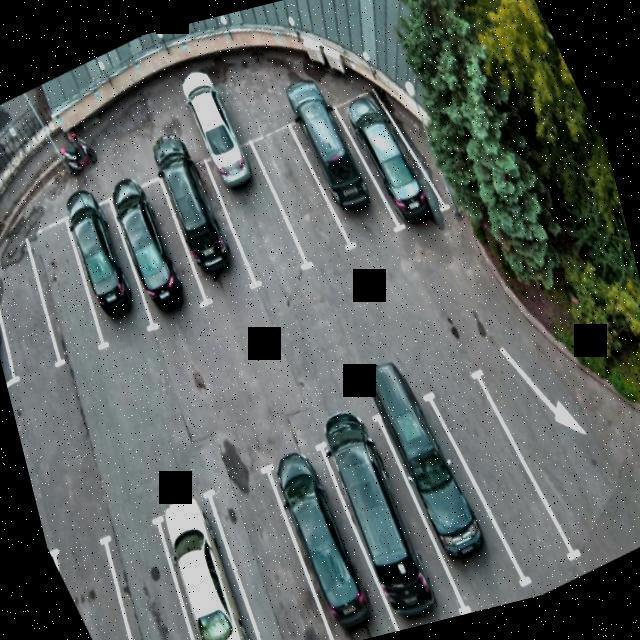space-empty: (422, 351, 582, 598), (181, 457, 338, 640), (63, 511, 241, 640), (0, 207, 128, 379), (245, 117, 351, 275), (0, 214, 86, 397), (52, 529, 181, 640)
space-occupied: (305, 397, 467, 640), (370, 380, 526, 621), (251, 431, 392, 640), (37, 179, 178, 371), (123, 492, 281, 640), (325, 68, 451, 249), (93, 171, 222, 342), (282, 83, 400, 268), (146, 151, 263, 308), (195, 129, 305, 288)
